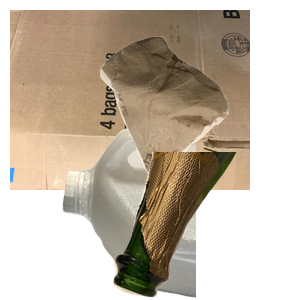cardboard: (10, 10, 250, 190)
glass: (111, 152, 300, 300)
plastic: (60, 120, 300, 300)
trash: (98, 34, 300, 211)
